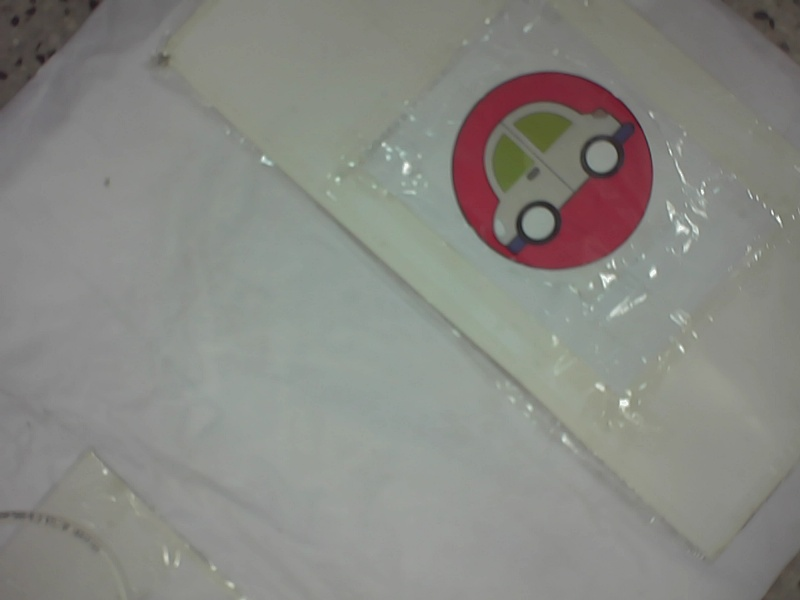areaC: (454, 60, 663, 276)
